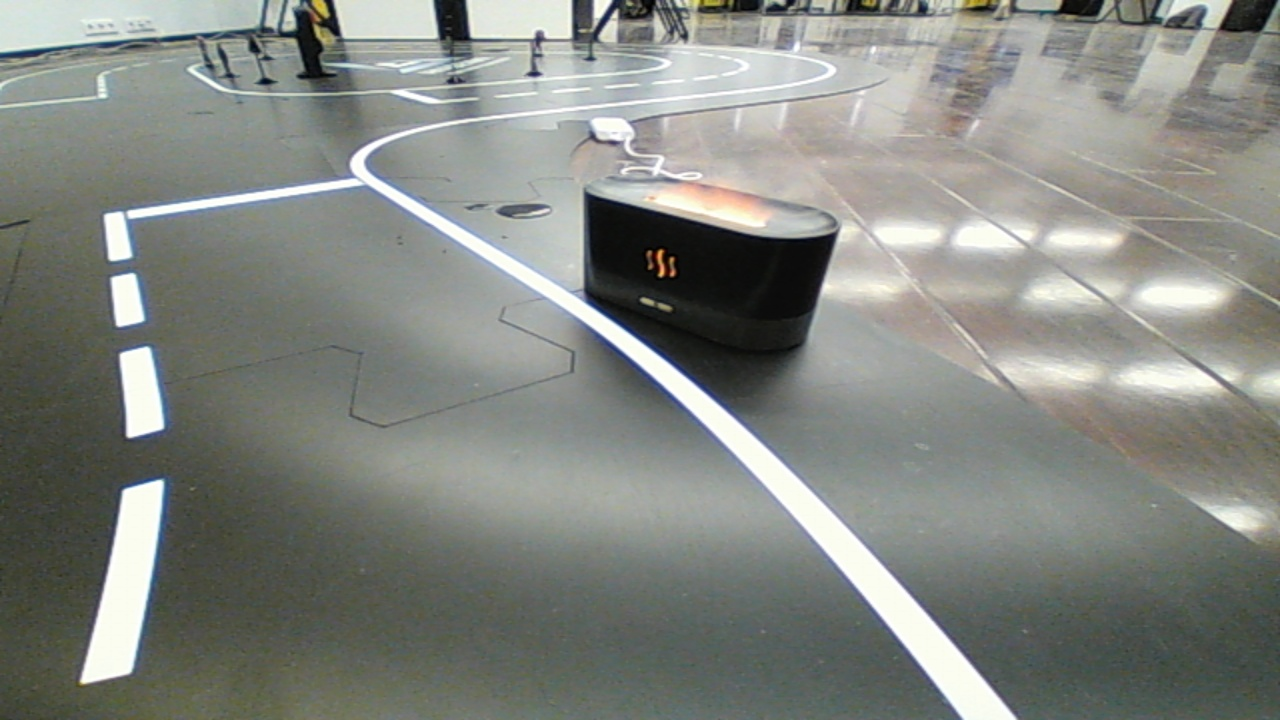Movement prohibition: (556, 164, 858, 369)
